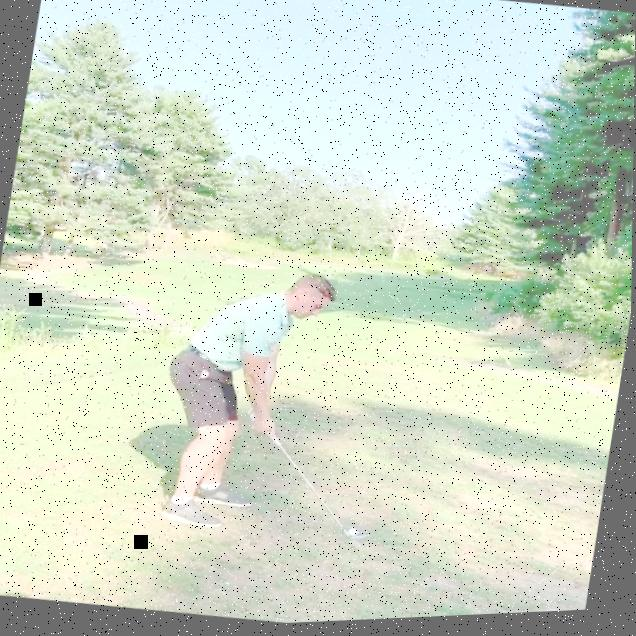ClubHead: (351, 536, 376, 550)
GolfBall: (350, 530, 361, 541)
